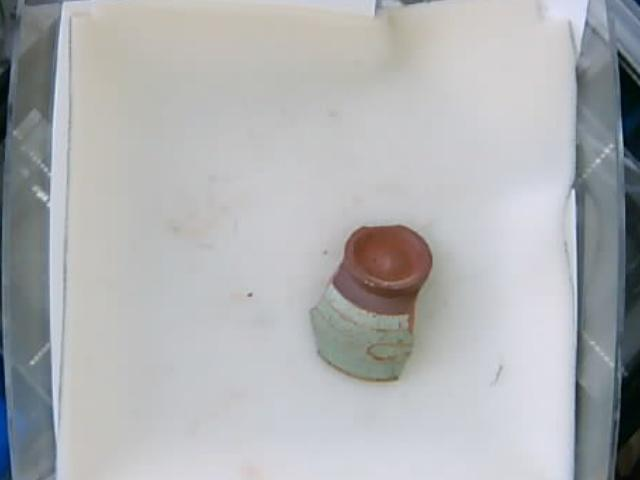China: (310, 222, 434, 383)
